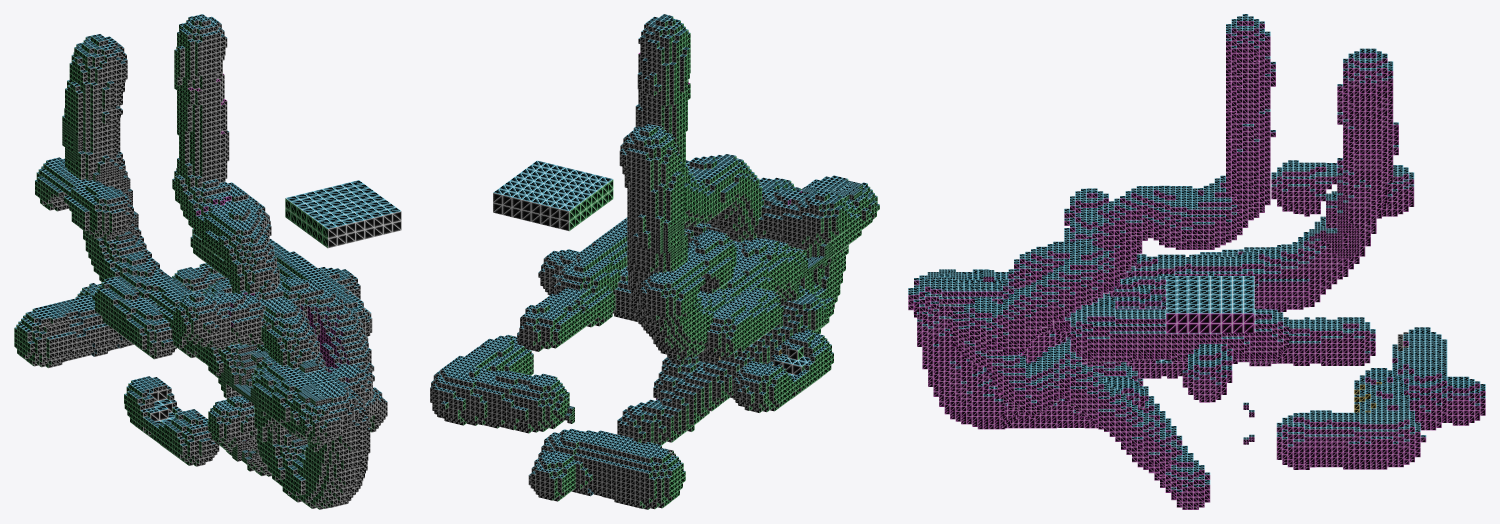
Rendered from NF_Levels_Collection.fbx.
3 renders of one model, left to right at view 1: azimuth 30°, elevation 25°; view 2: azimuth 150°, elevation 25°; view 3: azimuth 270°, elevation 25°, orthographic. The views are drawn at different scales.
Parts seen in each view (by area): view 1: Level B, Level D, Level E, Level F, Level C, Level A; view 2: Level D, Level F, Level E, Level B, Level C, Level A; view 3: Level B, Level F, Level E, Level D, Level C, Level A.
Part boxes in pixels (x1,y1,x2,y2): Level B: [172, 14, 374, 430]; Level D: [14, 157, 358, 466]; Level E: [62, 34, 338, 444]; Level F: [172, 180, 401, 509]; Level C: [207, 387, 387, 476]; Level A: [254, 238, 372, 420]; Level D: [517, 229, 833, 509]; Level F: [430, 160, 848, 433]; Level E: [619, 124, 872, 360]; Level B: [633, 14, 849, 250]; Level C: [617, 182, 879, 445]; Level A: [554, 179, 848, 295]; Level B: [913, 14, 1275, 355]; Level F: [917, 270, 1426, 469]; Level E: [927, 48, 1398, 311]; Level D: [914, 160, 1485, 430]; Level C: [908, 275, 1210, 509]; Level A: [919, 279, 1294, 362].
Bounding box in the file's own units: 11161 × 18254 × 20743.
